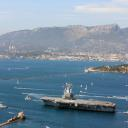Portanaves: (41, 77, 118, 115)
